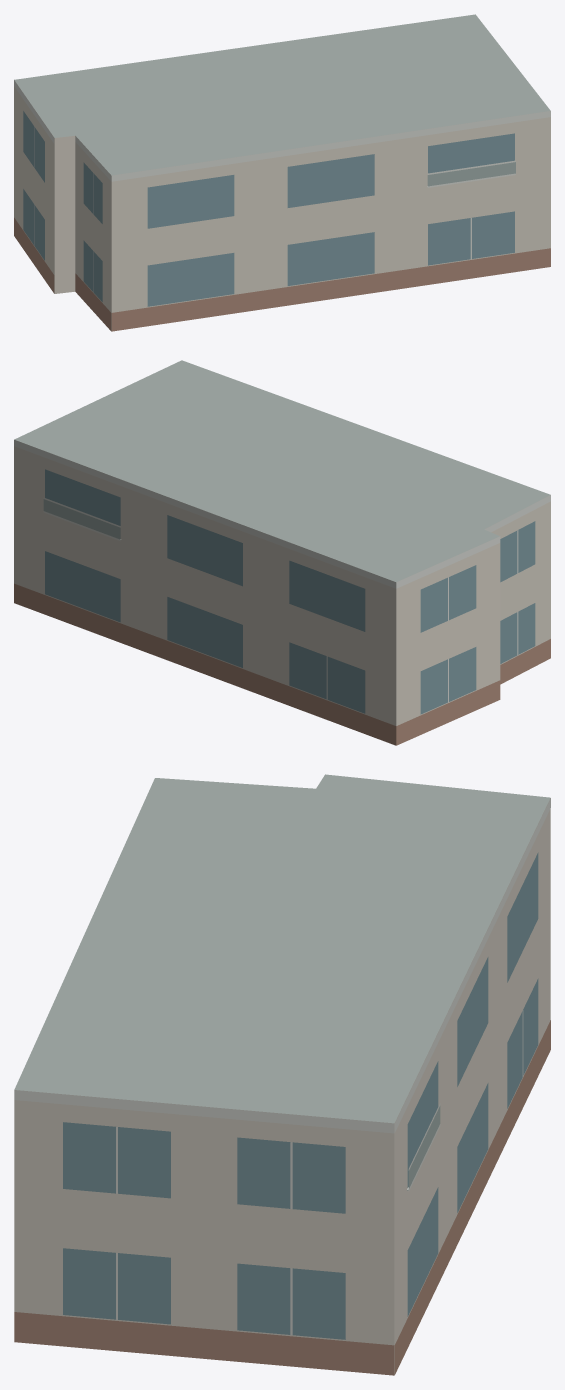
File: survey-upis-32704103.glb
3 renders of one model, top to bottom at view 1: azimuth 30°, elevation 25°; view 2: azimuth 150°, elevation 25°; view 3: azimuth 270°, elevation 25°, orthographic. The views are drawn at different scales.
Visible parts, largest first — view 1: survey-upis-32704103.tmp; view 2: survey-upis-32704103.tmp; view 3: survey-upis-32704103.tmp.
Boxes of the visible parts, left/top/right/bottom form: survey-upis-32704103.tmp: left=14, top=14, right=550, bottom=331; survey-upis-32704103.tmp: left=14, top=360, right=550, bottom=745; survey-upis-32704103.tmp: left=14, top=774, right=550, bottom=1375.
Size of the model in its own units: 18.12 by 6.1 by 11.78.
